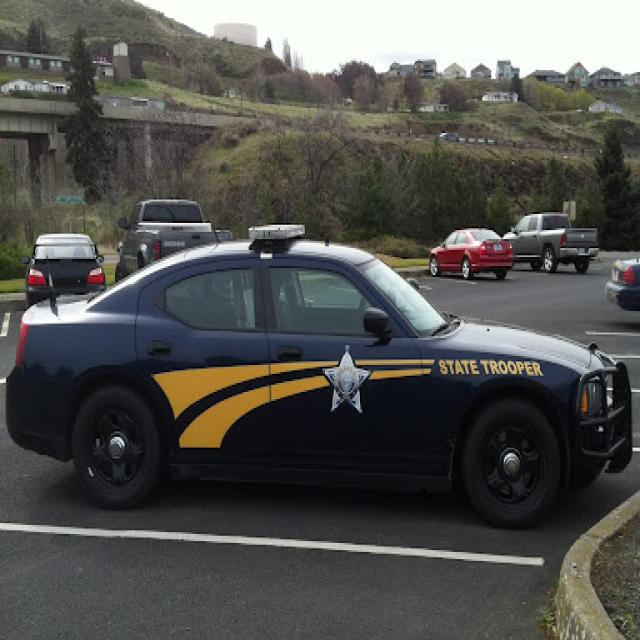cop: (8, 223, 635, 522)
